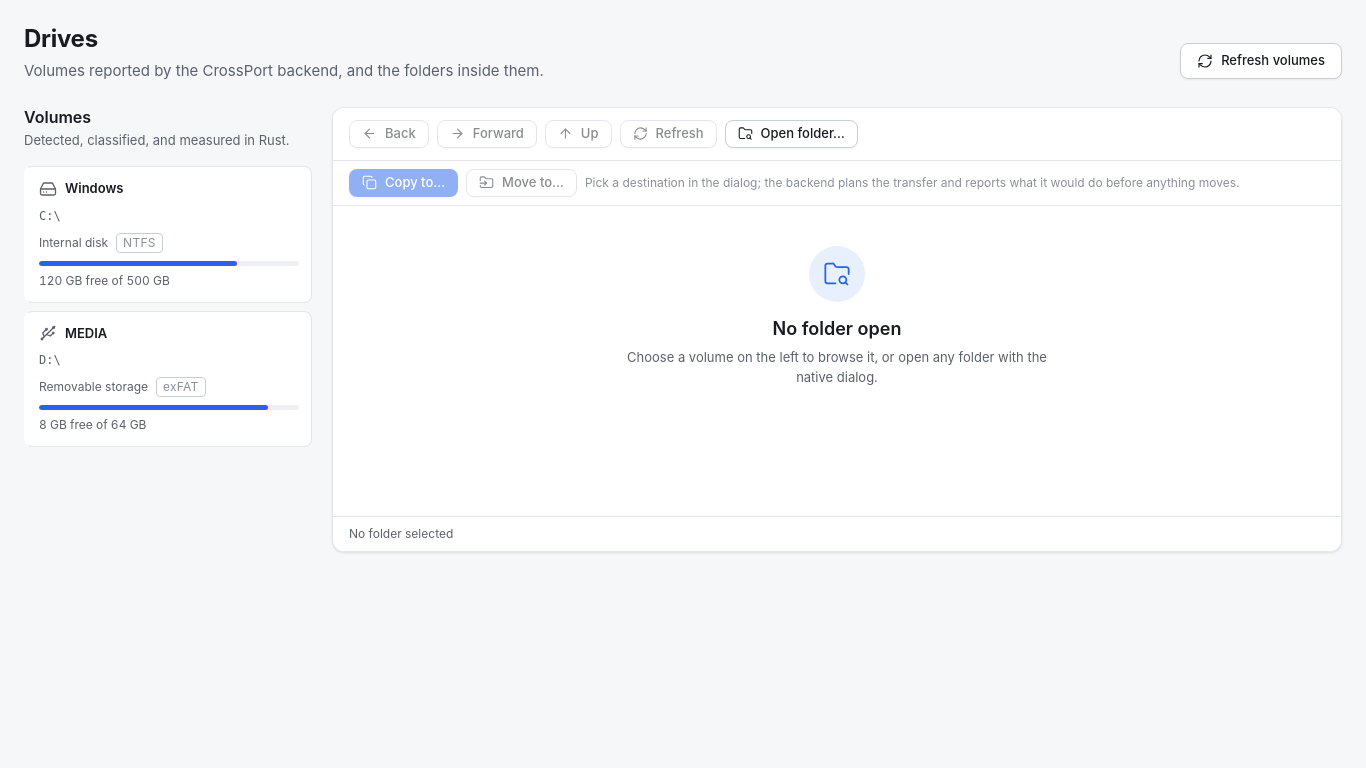
DrivesPage › opens a volume root and lists its folders and files
Click the button "MEDIA D:\\ Removable storage exFAT 8 GB free of 64 GB" at (168, 379), box [24, 310, 312, 447]
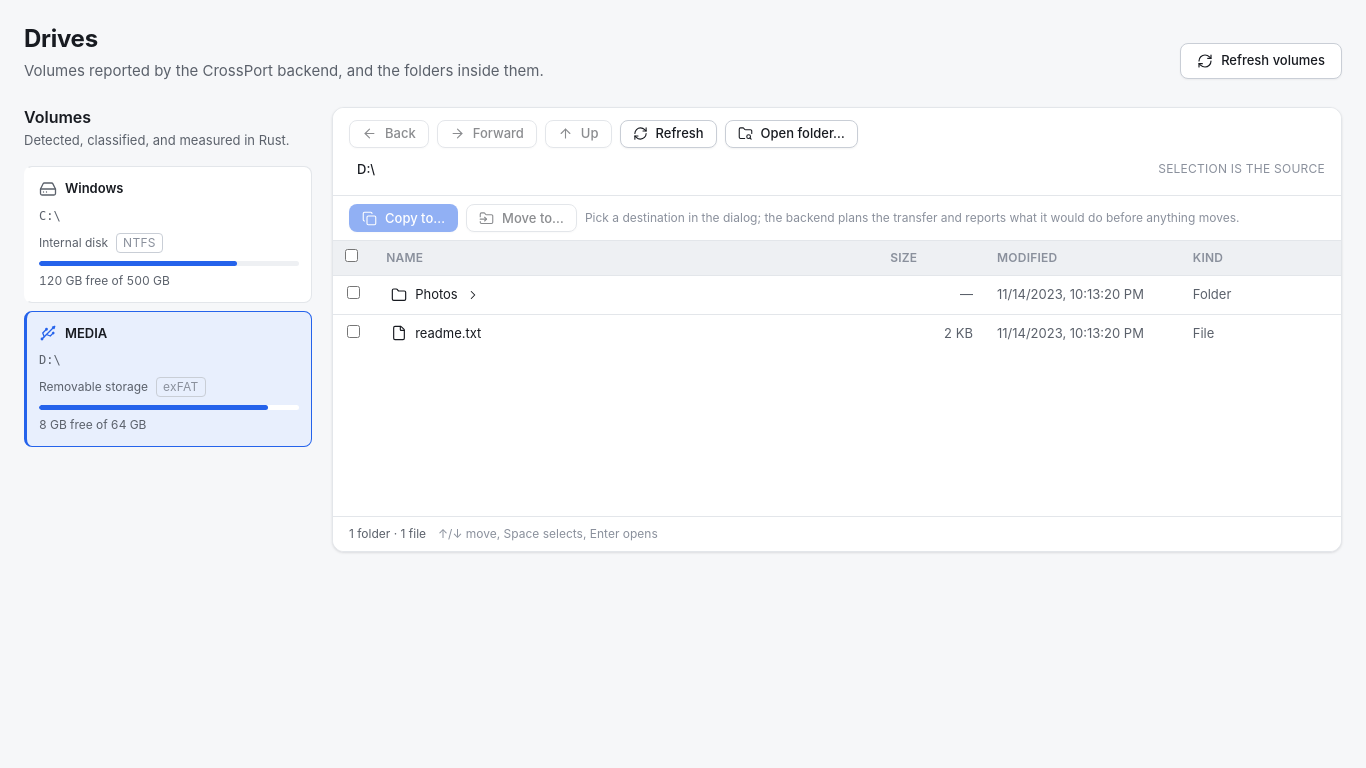
Now the column heading "Photos" is shown, box [374, 276, 878, 314]
Now the column heading "readme.txt" is shown, box [374, 314, 878, 352]
Now the text "2 KB" is shown, box [878, 314, 985, 352]
